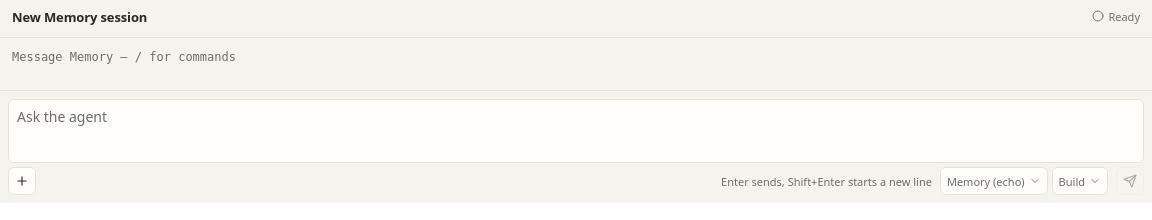
Test case: AgentPanel — the transcript before it has a row › fills the `/` menu from the engine’s frames, which is what makes `/ for commands` true
The image size is (1152, 220).
In the text box with class "agent-composer-field": (576, 131) [8,99,1144,163], type "/rev"
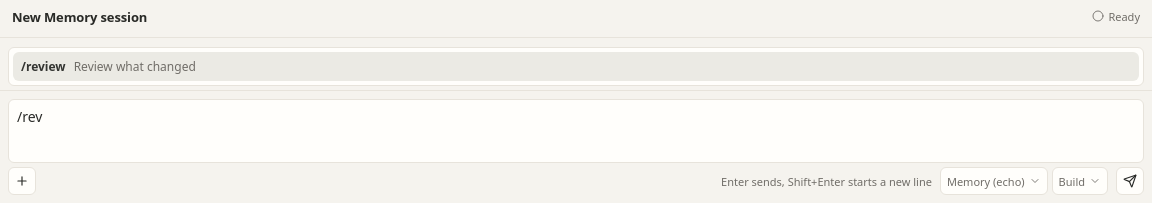
Check: the option with class "agent-command-item" shows "/review", box [13,52,1139,81]
